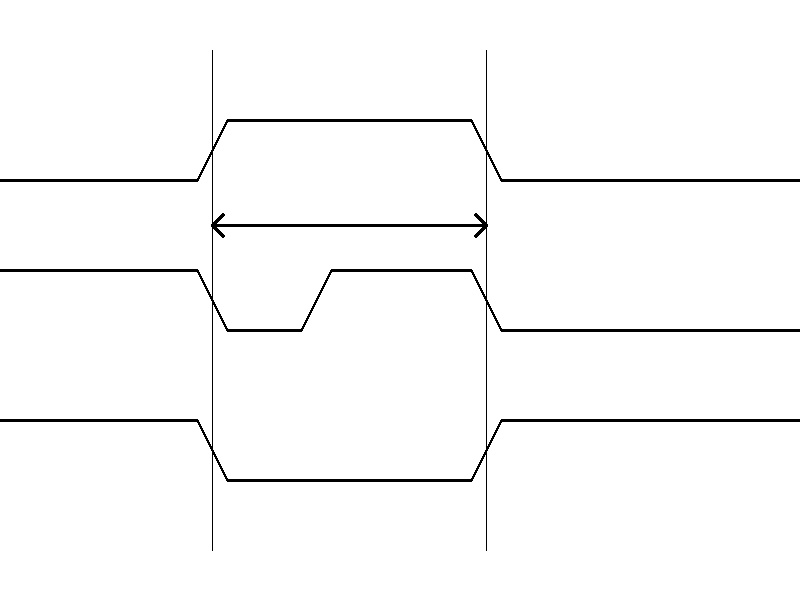double_arrow: (212, 210, 486, 240)
